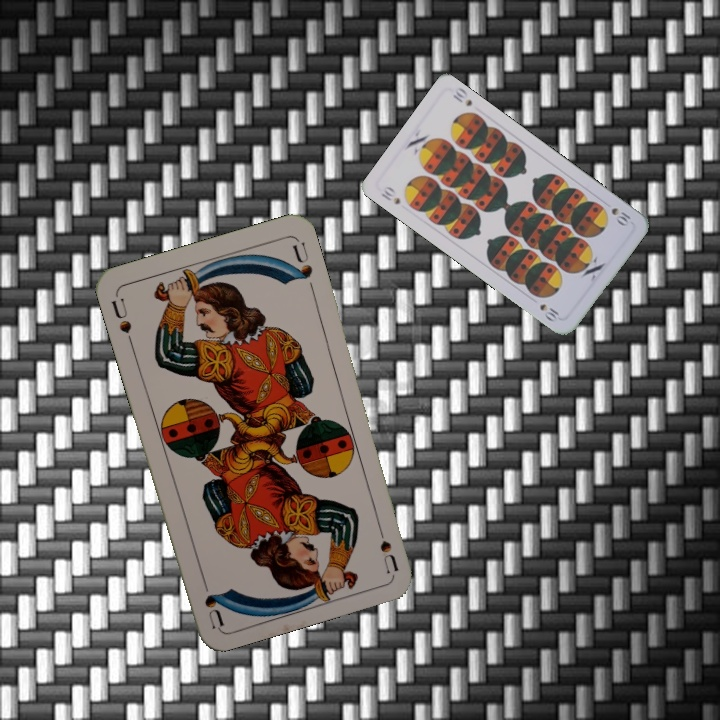S10: (607, 203, 634, 229), (377, 182, 403, 207)
SU: (372, 516, 402, 575), (107, 291, 136, 349)
